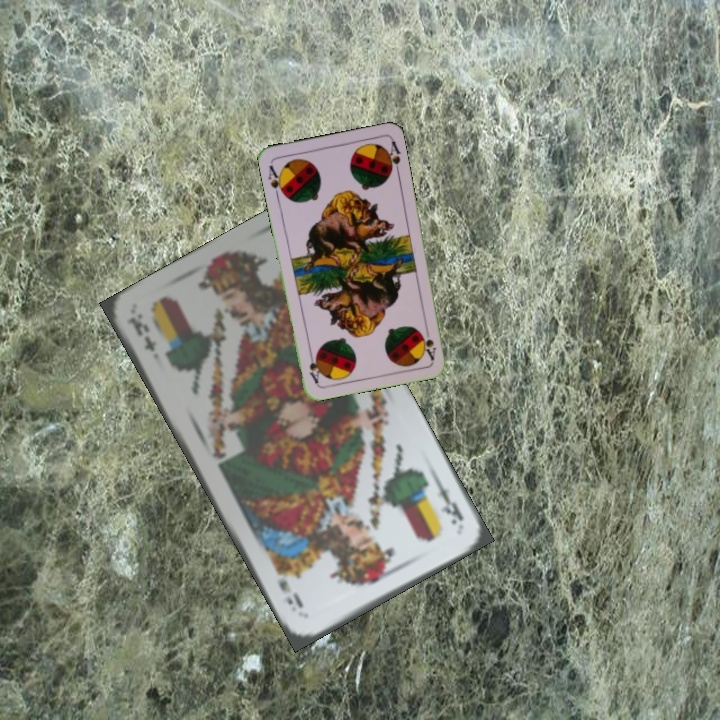EK: (431, 474, 466, 527), (122, 313, 159, 355)
SA: (264, 161, 288, 200), (417, 322, 439, 363)
